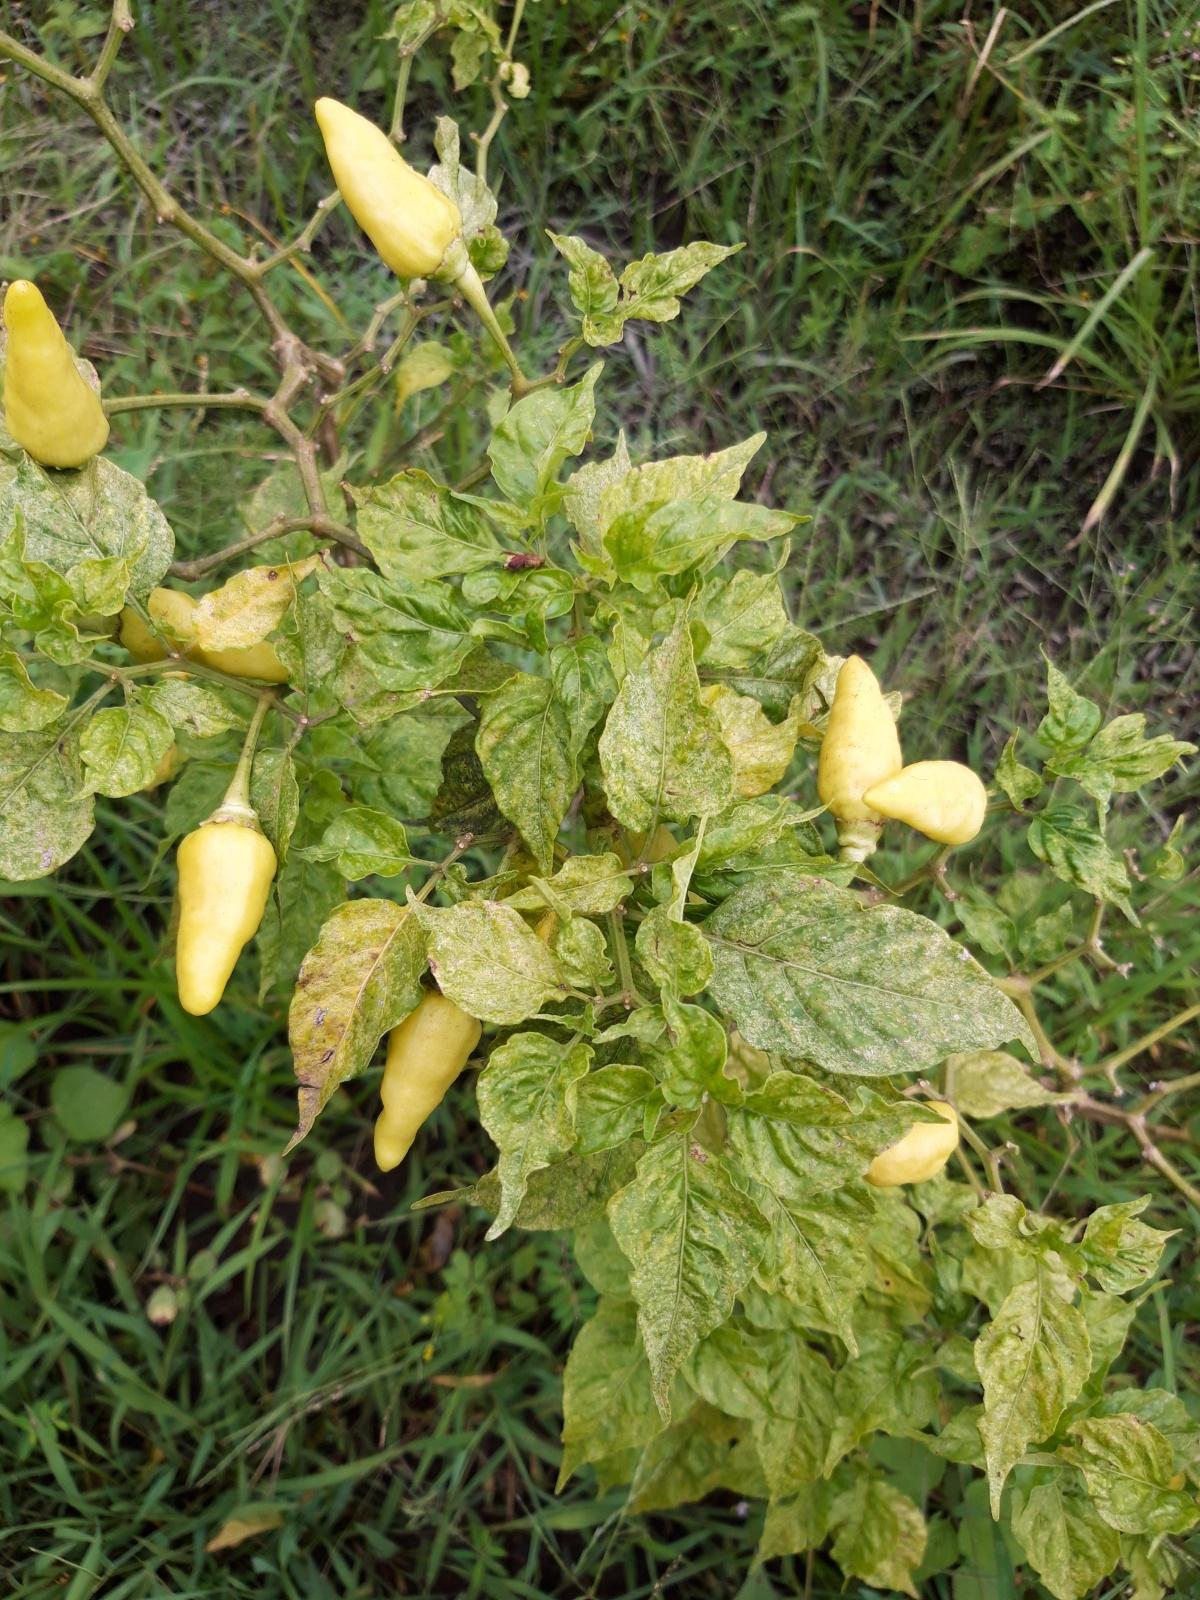cabai_normal: (314, 96, 460, 278), (3, 280, 112, 470), (175, 823, 277, 1018), (373, 993, 482, 1174), (816, 655, 903, 826), (863, 760, 984, 845), (872, 1102, 958, 1188)
